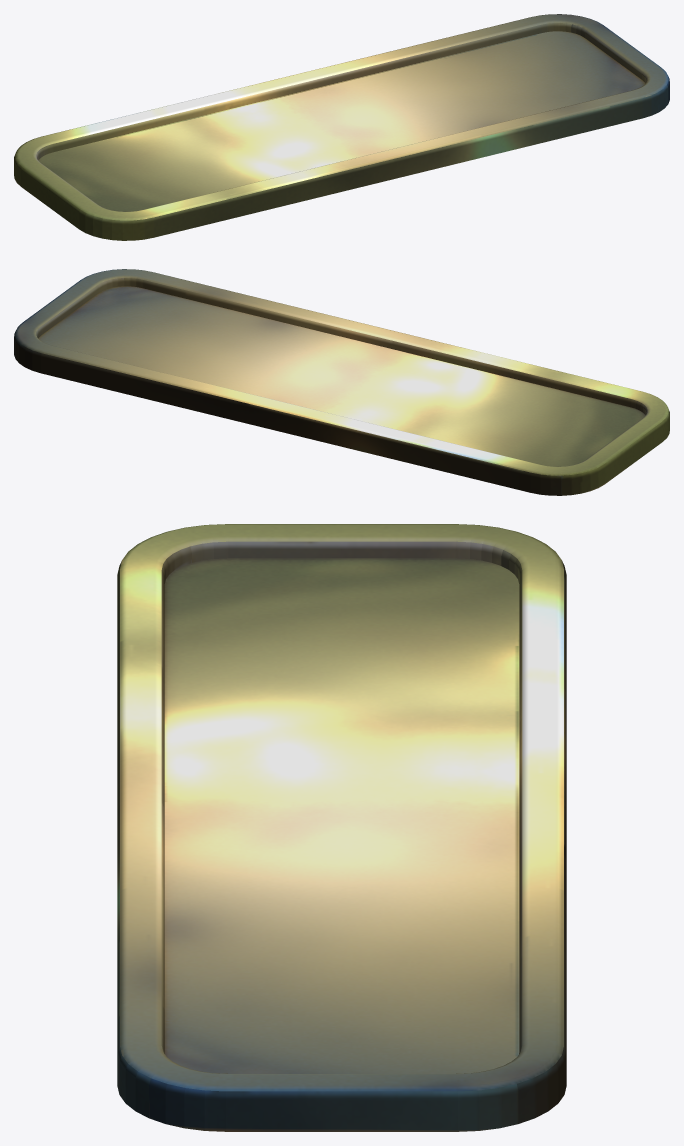
File: DialogFinish.fbx
3 renders of one model, top to bottom at view 1: azimuth 30°, elevation 25°; view 2: azimuth 150°, elevation 25°; view 3: azimuth 270°, elevation 25°, orthographic. The views are drawn at different scales.
Visible parts, largest first — view 1: diban; view 2: diban; view 3: diban.
Part boxes in pixels (<box>): diban: <box>14,14,669,240</box>; diban: <box>14,269,669,495</box>; diban: <box>117,524,566,1131</box>.
Size of the model in its own units: 6 by 0.205 by 2.
Materials: 1 (1 with a texture image).
